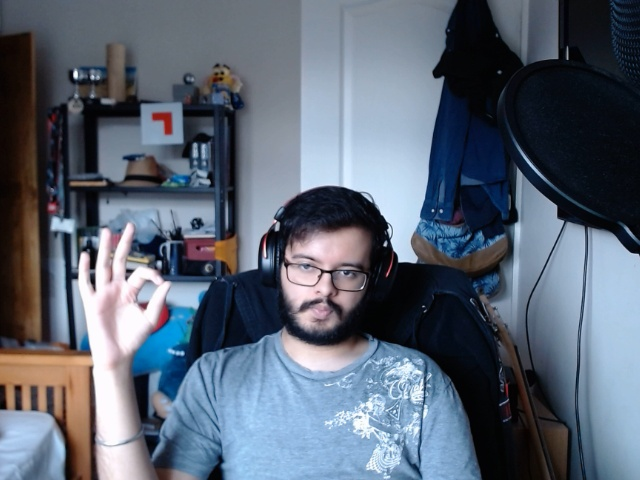Okay: (68, 217, 177, 377)
